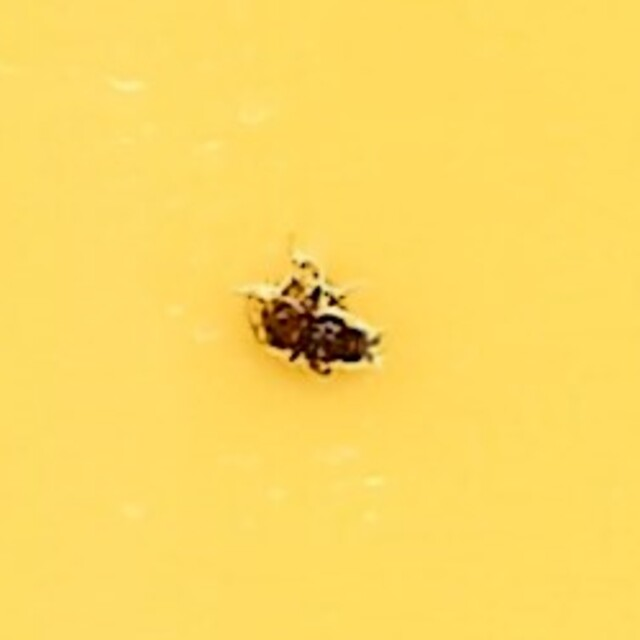Brachycera: (256, 253, 384, 387)
